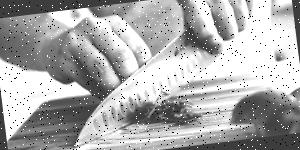knife: (69, 0, 234, 150)
